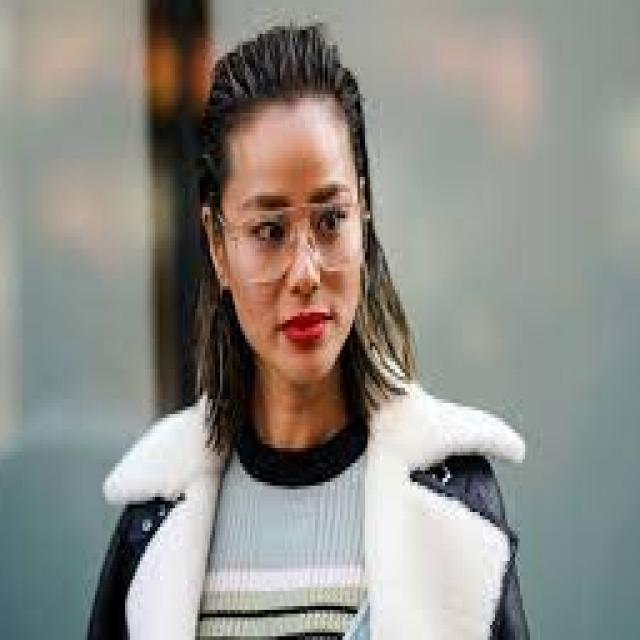Glasses: (222, 184, 371, 282)
